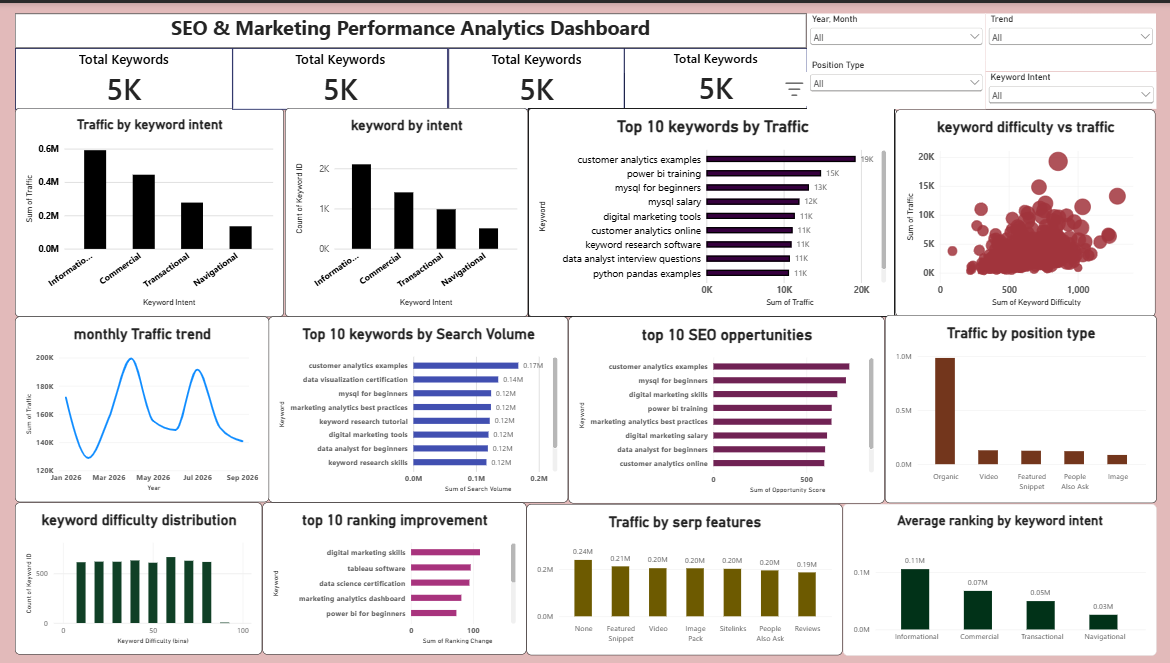

The dashboard page shown, as its layout file describes it:
{"tool":"powerbi","page":{"name":"SEO & marketing analytics dashboard ","canvas":[1920,1080],"ordinal":0},"visuals":[{"type":"cardVisual","fields":{"Data":["seo_marketing_analytics seo_main.Total Keywords"]},"box":[30,72,354,100],"z":0},{"type":"clusteredColumnChart","title":"Traffic by keyword intent","fields":{"Category":["seo_marketing_analytics intent_lookup.Keyword Intent"],"Y":["Sum(seo_marketing_analytics seo_main.Traffic)"]},"box":[30,170,437.5,340],"z":1000},{"type":"cardVisual","fields":{"Data":["seo_marketing_analytics seo_main.Total Keywords"]},"box":[384,72,350,100],"z":2000},{"type":"cardVisual","fields":{"Data":["seo_marketing_analytics seo_main.Total Keywords"]},"box":[734,72,286,100],"z":3000},{"type":"cardVisual","fields":{"Data":["seo_marketing_analytics seo_main.Total Keywords"]},"box":[1020,72,298,100],"z":4000},{"type":"clusteredColumnChart","title":"keyword by intent","fields":{"Category":["seo_marketing_analytics intent_lookup.Keyword Intent"],"Y":["CountNonNull(seo_marketing_analytics seo_main.Keyword ID)"]},"box":[467.5,170,395,340],"z":5000},{"type":"clusteredBarChart","title":"Top 10 keywords by Traffic","fields":{"Category":["seo_marketing_analytics seo_main.Keyword"],"Y":["Sum(seo_marketing_analytics seo_main.Traffic)"]},"box":[862.5,170,600,340],"z":6000},{"type":"clusteredBarChart","title":"Top 10 keywords by Search Volume","fields":{"Category":["seo_marketing_analytics seo_main.Keyword"],"Y":["Sum(seo_marketing_analytics seo_main.Search Volume)"]},"box":[442.5,510,487.5,302.5],"z":7000},{"type":"clusteredBarChart","title":"top 10 ranking improvement","fields":{"Category":["seo_marketing_analytics seo_main.Keyword"],"Y":["Sum(seo_marketing_analytics seo_main.Ranking Change)"]},"box":[432.2,812.8,429.5,247.4],"z":8000},{"type":"scatterChart","title":"keyword difficulty vs traffic","fields":{"X":["Sum(seo_marketing_analytics seo_main.Keyword Difficulty)"],"Y":["Sum(seo_marketing_analytics seo_main.Traffic)"],"Size":["Sum(seo_marketing_analytics seo_main.Search Volume)"],"Category":["seo_marketing_analytics seo_main.Keyword"]},"box":[1462.5,172.5,422.5,337.5],"z":9000},{"type":"lineChart","title":"monthly Traffic trend","fields":{"Y":["Sum(seo_marketing_analytics seo_main.Traffic)"],"Category":["seo_marketing_analytics seo_main.Timestamp.Variation.Date Hierarchy.Year","seo_marketing_analytics seo_main.Timestamp.Variation.Date Hierarchy.Month"]},"box":[29.9,511,413.2,301.7],"z":10000},{"type":"clusteredColumnChart","title":"keyword difficulty distribution","fields":{"Y":["CountNonNull(seo_marketing_analytics seo_main.Keyword ID)"],"Category":["seo_marketing_analytics seo_main.Keyword Difficulty (bins)"]},"box":[29.9,812.8,402.3,247.4],"z":11000},{"type":"clusteredBarChart","title":"top 10 SEO oppertunities","fields":{"Category":["seo_marketing_analytics seo_main.Keyword"],"Y":["Sum(seo_marketing_analytics seo_main.Opportunity Score)"]},"box":[930,510,514,304],"z":12000},{"type":"clusteredColumnChart","title":"Traffic by position type","fields":{"Category":["seo_marketing_analytics position_lookup.Position Type"],"Y":["Sum(seo_marketing_analytics seo_main.Traffic)"]},"box":[1444,508,442,306],"z":13000},{"type":"clusteredColumnChart","title":"Traffic by serp features","fields":{"Category":["seo_marketing_analytics serp_lookup.SERP Feature"],"Y":["Sum(seo_marketing_analytics seo_main.Traffic)"]},"box":[861.7,815.5,514,246],"z":14000},{"type":"clusteredColumnChart","title":"Average ranking by keyword intent","fields":{"Category":["seo_marketing_analytics intent_lookup.Keyword Intent"],"Y":["Sum(seo_marketing_analytics seo_main.Position)"]},"box":[1376.1,814.9,509.9,246.4],"z":15000},{"type":"slicer","fields":{"Values":["seo_marketing_analytics intent_lookup.Keyword Intent"]},"box":[1608,112,278,60],"z":16000},{"type":"slicer","fields":{"Values":["seo_marketing_analytics trend_lookup.Trend"]},"box":[1608.6,17.1,277.1,94.3],"z":17000},{"type":"slicer","fields":{"Values":["seo_marketing_analytics position_lookup.Position Type"]},"box":[1317.5,92.5,290,80],"z":18000},{"type":"slicer","fields":{"Values":["seo_marketing_analytics seo_main.Timestamp.Variation.Date Hierarchy.Year","seo_marketing_analytics seo_main.Timestamp.Variation.Date Hierarchy.Month"]},"box":[1317.1,17.1,290,75.7],"z":19000},{"type":"textbox","box":[30,17.1,1287.1,55.7],"z":20000}]}

Visuals, with their boxes in screenshot pixels (x1, y1, x2, y2), scaled from the page's 1920x1080 canvas onto the 1170x663 screenshot:
cardVisual - seo_marketing_analytics seo_main.Total Keywords: bbox=[18, 44, 234, 106]
"Traffic by keyword intent" clusteredColumnChart: bbox=[18, 104, 285, 313]
cardVisual - seo_marketing_analytics seo_main.Total Keywords: bbox=[234, 44, 447, 106]
cardVisual - seo_marketing_analytics seo_main.Total Keywords: bbox=[447, 44, 622, 106]
cardVisual - seo_marketing_analytics seo_main.Total Keywords: bbox=[622, 44, 803, 106]
"keyword by intent" clusteredColumnChart: bbox=[285, 104, 526, 313]
"Top 10 keywords by Traffic" clusteredBarChart: bbox=[526, 104, 891, 313]
"Top 10 keywords by Search Volume" clusteredBarChart: bbox=[270, 313, 567, 499]
"top 10 ranking improvement" clusteredBarChart: bbox=[263, 499, 525, 651]
"keyword difficulty vs traffic" scatterChart: bbox=[891, 106, 1149, 313]
"monthly Traffic trend" lineChart: bbox=[18, 314, 270, 499]
"keyword difficulty distribution" clusteredColumnChart: bbox=[18, 499, 263, 651]
"top 10 SEO oppertunities" clusteredBarChart: bbox=[567, 313, 880, 500]
"Traffic by position type" clusteredColumnChart: bbox=[880, 312, 1149, 500]
"Traffic by serp features" clusteredColumnChart: bbox=[525, 501, 838, 652]
"Average ranking by keyword intent" clusteredColumnChart: bbox=[839, 500, 1149, 652]
slicer - seo_marketing_analytics intent_lookup.Keyword Intent: bbox=[980, 69, 1149, 106]
slicer - seo_marketing_analytics trend_lookup.Trend: bbox=[980, 10, 1149, 68]
slicer - seo_marketing_analytics position_lookup.Position Type: bbox=[803, 57, 980, 106]
slicer - seo_marketing_analytics seo_main.Timestamp.Variation.Date Hierarchy.Year x seo_marketing_analytics seo_main.Timestamp.Variation.Date Hierarchy.Month: bbox=[803, 10, 979, 57]
textbox: bbox=[18, 10, 803, 45]
